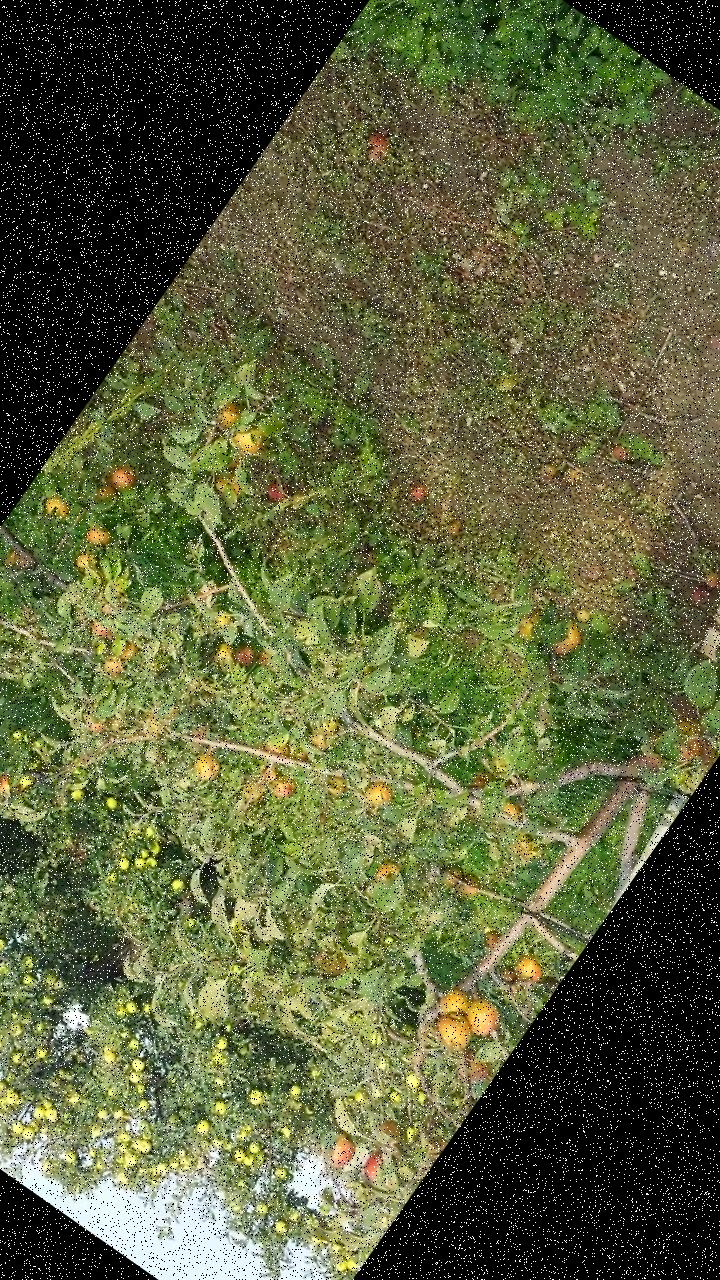Apple: (426, 1004, 478, 1058), (456, 993, 508, 1044), (444, 1042, 494, 1092), (544, 616, 588, 662), (430, 982, 474, 1026), (305, 942, 350, 985), (224, 418, 267, 459), (354, 1145, 394, 1188), (185, 746, 226, 786), (509, 948, 549, 988), (320, 1131, 358, 1173), (669, 731, 708, 770), (358, 776, 397, 814), (36, 490, 74, 528), (104, 462, 141, 500), (209, 394, 246, 432), (366, 854, 402, 892), (207, 468, 244, 503), (666, 712, 704, 746), (260, 731, 296, 766), (375, 1114, 412, 1148), (206, 638, 241, 672), (264, 768, 298, 802), (433, 861, 466, 894), (78, 522, 112, 554), (514, 607, 544, 641), (455, 870, 486, 902), (89, 477, 120, 508), (493, 962, 525, 992), (0, 548, 32, 578), (302, 726, 334, 756), (320, 770, 351, 800), (98, 650, 128, 680), (254, 761, 282, 790), (466, 767, 494, 796), (313, 711, 341, 739), (230, 641, 258, 669), (115, 638, 142, 666), (69, 548, 96, 576), (253, 647, 280, 674), (209, 606, 234, 634), (82, 710, 108, 736), (496, 798, 524, 822), (86, 618, 113, 642), (477, 925, 502, 950), (0, 772, 18, 800), (222, 452, 242, 474)
